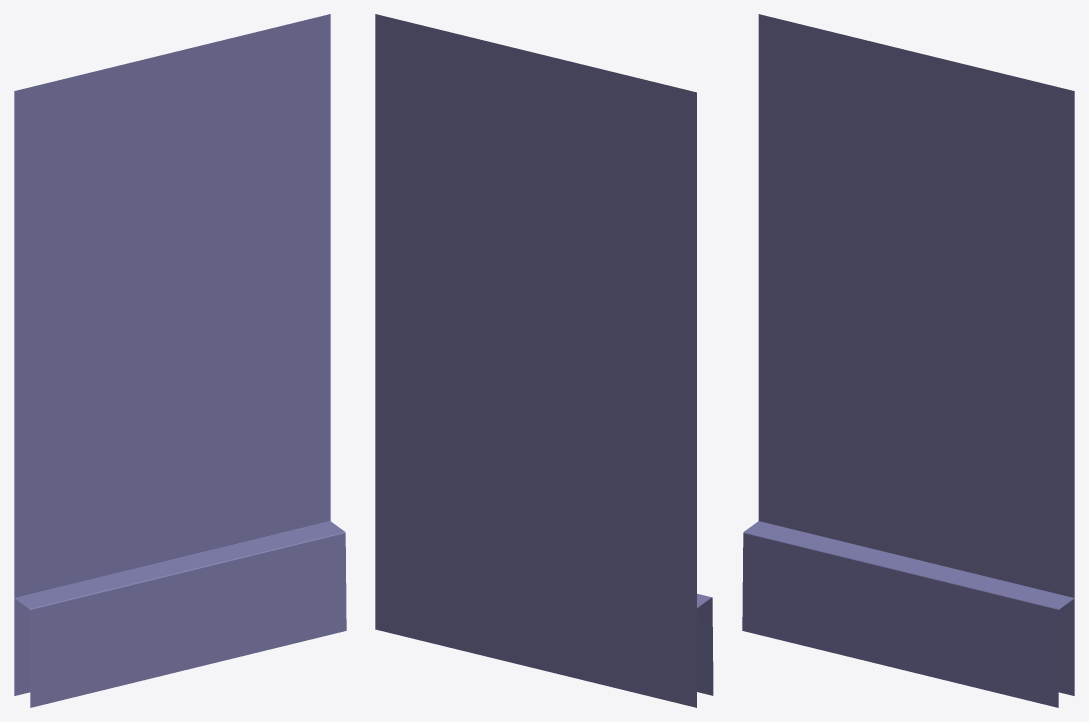
File: M_A_wall_06.fbx
3 renders of one model, left to right at view 1: azimuth 30°, elevation 25°; view 2: azimuth 150°, elevation 25°; view 3: azimuth 330°, elevation 25°, orthographic.
Visible parts, largest first — view 1: M_A_wall_06; view 2: M_A_wall_06; view 3: M_A_wall_06.
Boxes of the visible parts, <box> form: M_A_wall_06: <box>14,14,346,707</box>; M_A_wall_06: <box>375,14,713,707</box>; M_A_wall_06: <box>742,14,1074,707</box>.
Bounding box in the file's own units: 200 × 366 × 17.63.
